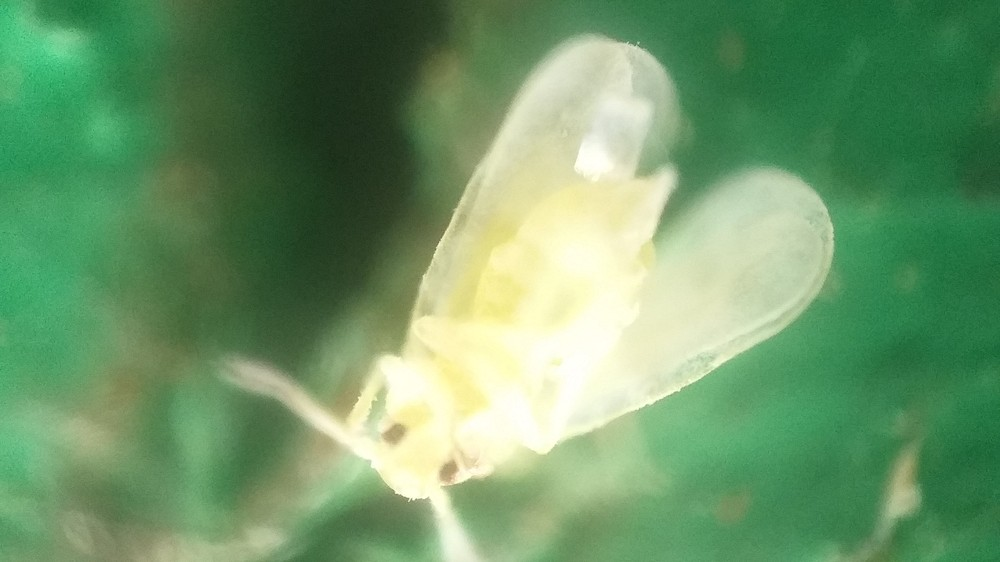Mosca Blanca: (197, 23, 853, 557)
